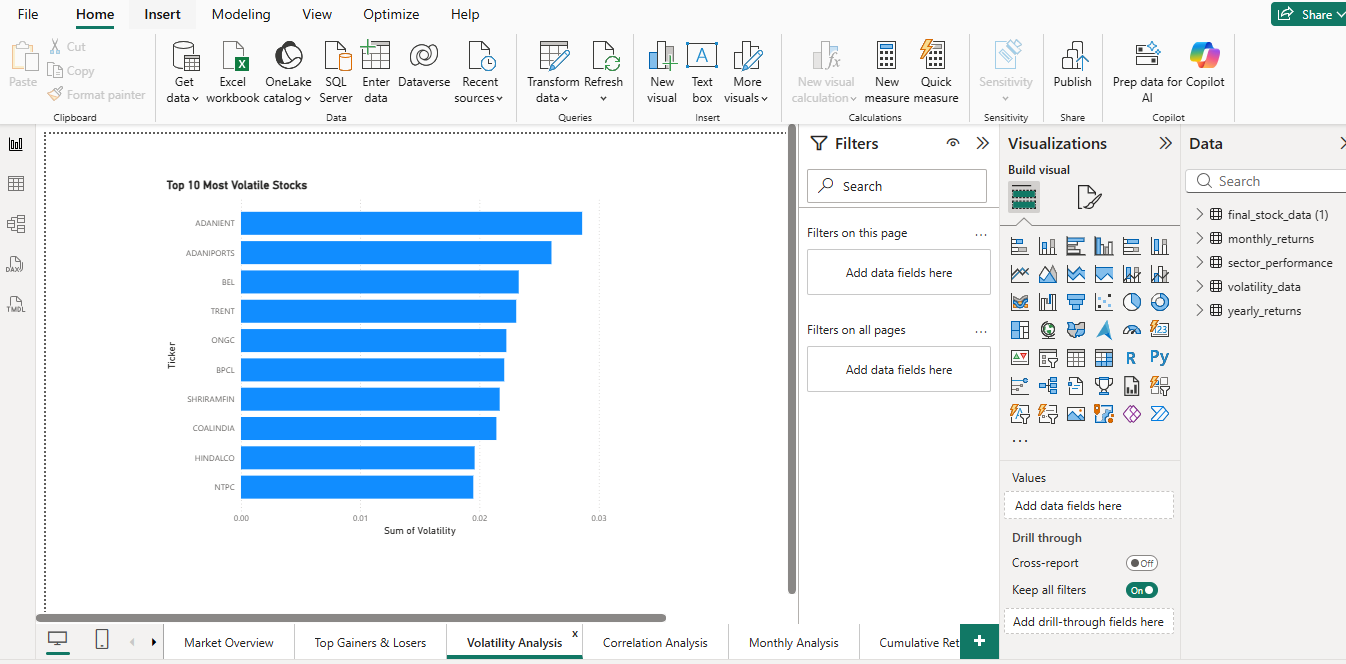

The page's visual inventory and layout, read from the dashboard file:
{"tool":"powerbi","page":{"name":"Volatility Analysis","canvas":[1280,720],"ordinal":2},"visuals":[{"type":"clusteredBarChart","title":"Top 10 Most Volatile Stocks","fields":{"Category":["volatility_data.Ticker"],"Y":["Sum(volatility_data.Volatility)"]},"box":[170.3,63.5,648.6,524.3],"z":0}]}

Visuals, with their boxes on the page's 1280x720 design canvas (x1, y1, x2, y2). These are canvas units, not pixel positions in the 1346x664 screenshot, which may show the page scaled, cropped or inside an application window:
"Top 10 Most Volatile Stocks" clusteredBarChart: crop(170, 64, 819, 588)
